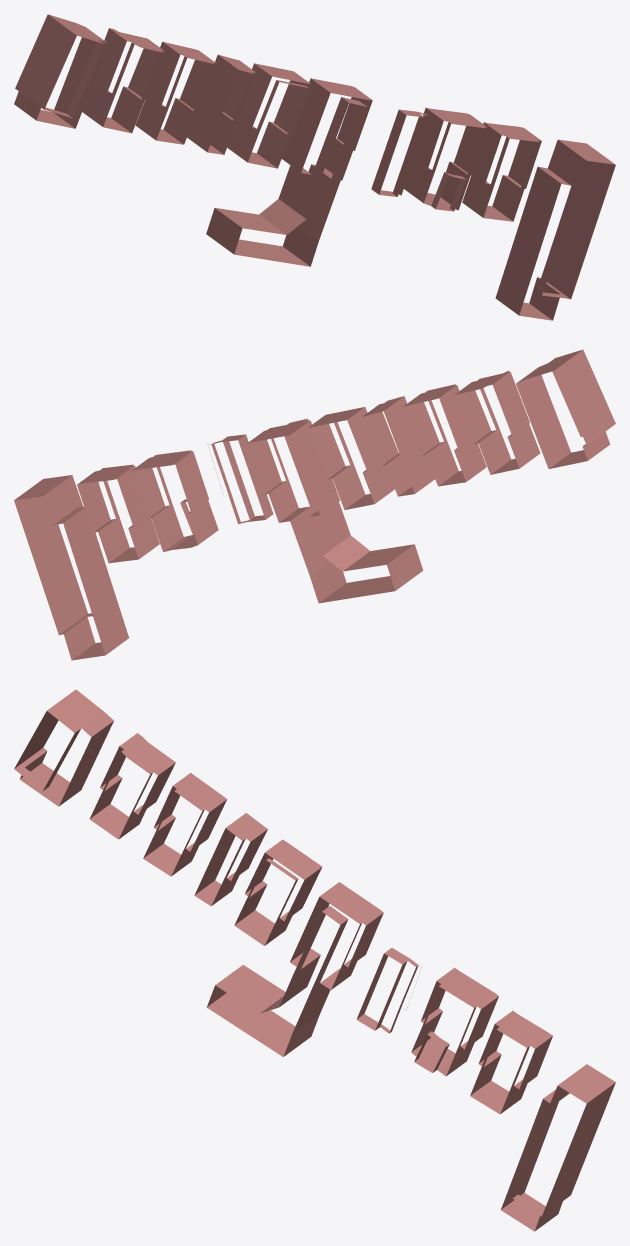
The model's file is Wall_Hini_6.0_Slope_1.0.obj.
3 renders of one model, top to bottom at view 1: azimuth 30°, elevation 25°; view 2: azimuth 150°, elevation 25°; view 3: azimuth 330°, elevation 25°, orthographic.
Parts seen in each view (by area): view 1: 6, 1, 2, 5, 8, 10, 9, 3, 7, 4; view 2: 6, 1, 2, 5, 10, 8, 9, 3, 7, 4; view 3: 6, 1, 2, 5, 3, 8, 10, 9, 7, 4.
Boxes of the visible parts, x1=… form: 6: x1=206, y1=78, x2=372, y2=266; 1: x1=495, y1=139, x2=615, y2=320; 2: x1=14, y1=14, x2=108, y2=128; 5: x1=403, y1=107, x2=487, y2=211; 8: x1=227, y1=63, x2=311, y2=168; 10: x1=82, y1=28, x2=165, y2=133; 9: x1=135, y1=41, x2=216, y2=144; 3: x1=462, y1=122, x2=541, y2=221; 7: x1=187, y1=54, x2=256, y2=154; 4: x1=371, y1=109, x2=428, y2=196; 6: x1=246, y1=418, x2=422, y2=603; 1: x1=14, y1=475, x2=128, y2=660; 2: x1=516, y1=349, x2=615, y2=468; 5: x1=131, y1=450, x2=218, y2=551; 10: x1=454, y1=370, x2=540, y2=474; 8: x1=307, y1=407, x2=394, y2=509; 9: x1=403, y1=384, x2=486, y2=486; 3: x1=77, y1=464, x2=159, y2=563; 7: x1=362, y1=396, x2=434, y2=496; 4: x1=207, y1=434, x2=273, y2=524; 6: x1=206, y1=882, x2=383, y2=1056; 1: x1=501, y1=1064, x2=615, y2=1231; 2: x1=14, y1=689, x2=113, y2=806; 5: x1=411, y1=967, x2=498, y2=1076; 3: x1=470, y1=1011, x2=552, y2=1114; 8: x1=234, y1=839, x2=321, y2=945; 10: x1=89, y1=733, x2=175, y2=839; 9: x1=143, y1=773, x2=227, y2=876; 7: x1=194, y1=813, x2=267, y2=906; 4: x1=356, y1=948, x2=422, y2=1033.
Size of the model in its own units: 136 by 92 by 12.
